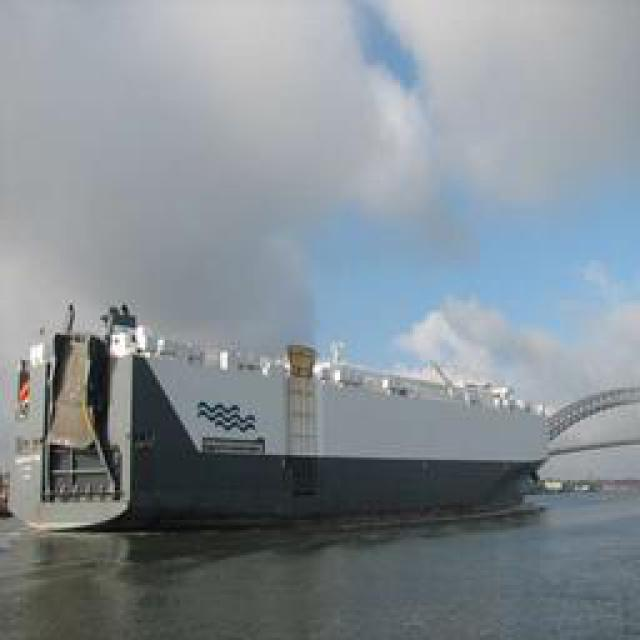Ship: (40, 296, 548, 529)
